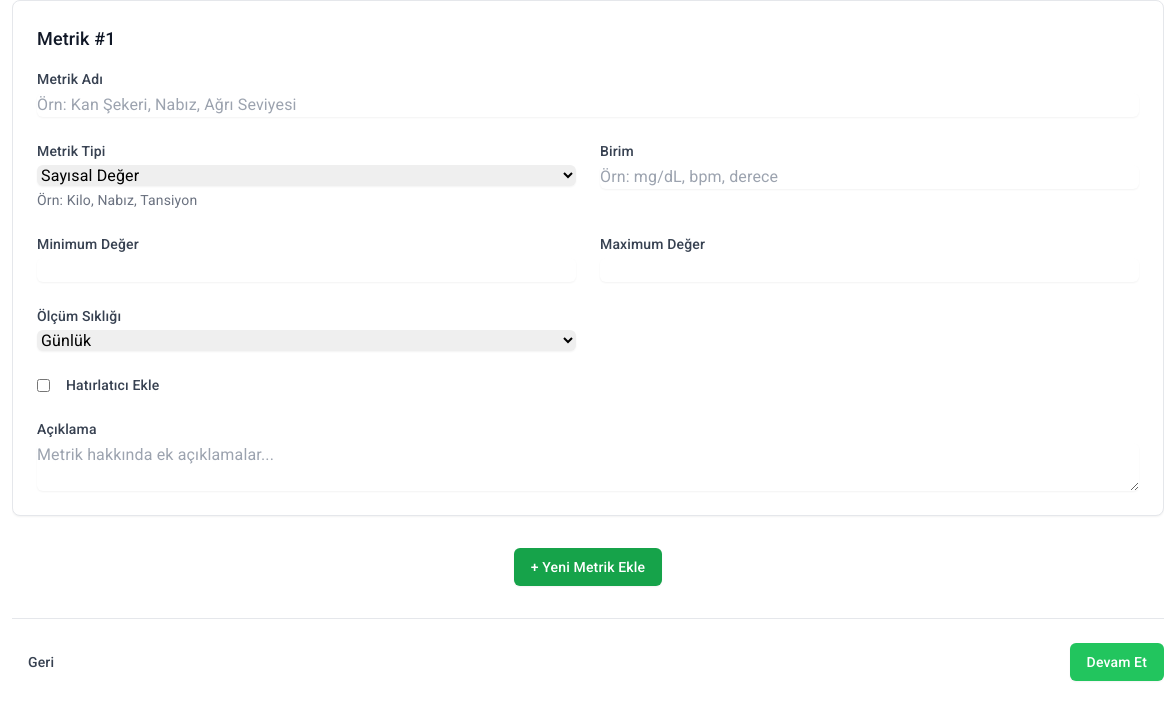
Test: HealthMetricStep › validates required fields
// Try to submit without filling required fields
Click the button "Devam Et".
click(1117, 662)  # box [1070,643,1164,681]
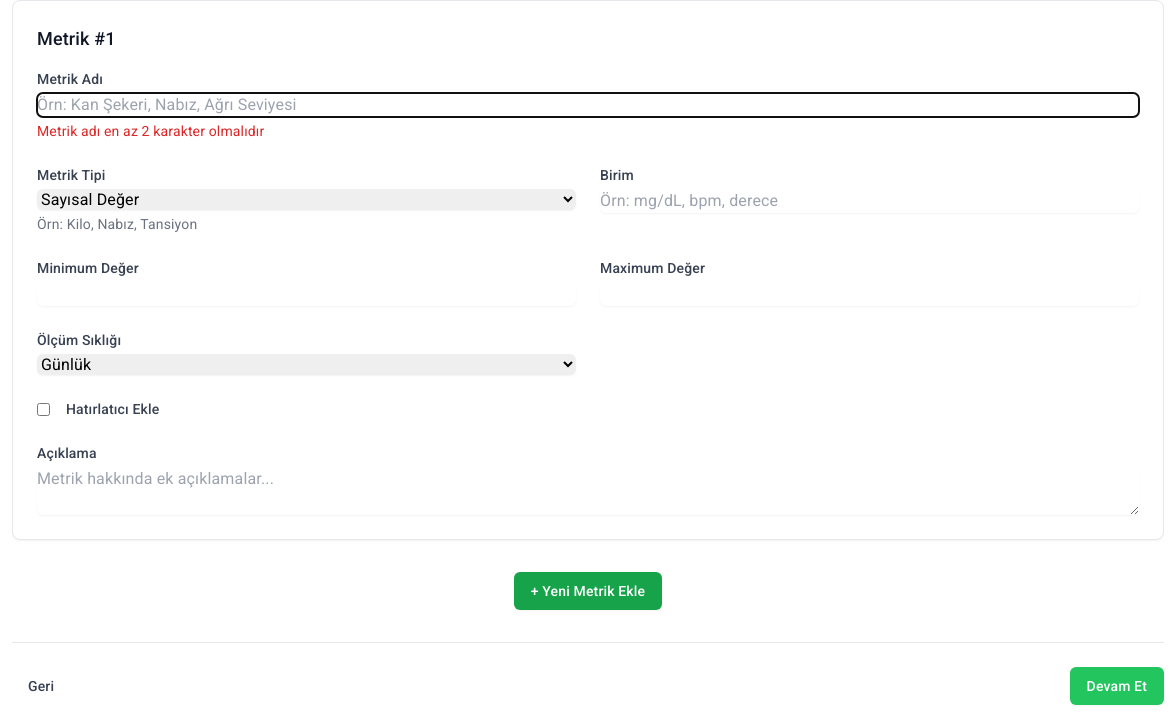
Expected: the text "Metrik adı en az 2 karakter olmalıdır" is shown, [37,123,264,139]
